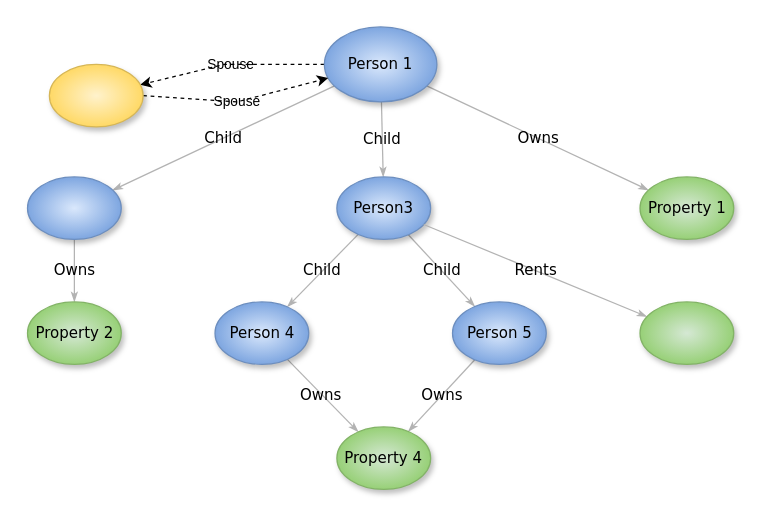
Image size: 763x520. Some labels were removed from this diagram. The centre of each missing label's shape, as x and y in pixels:
"Person 2" belongs at pixel 75 209.
"Person 6" belongs at pixel 97 97.
"Property 3" belongs at pixel 687 334.
